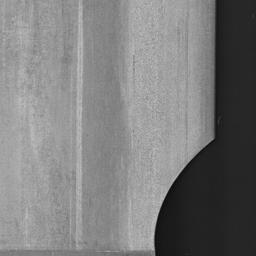Crescent gap: (154, 141, 212, 256)
